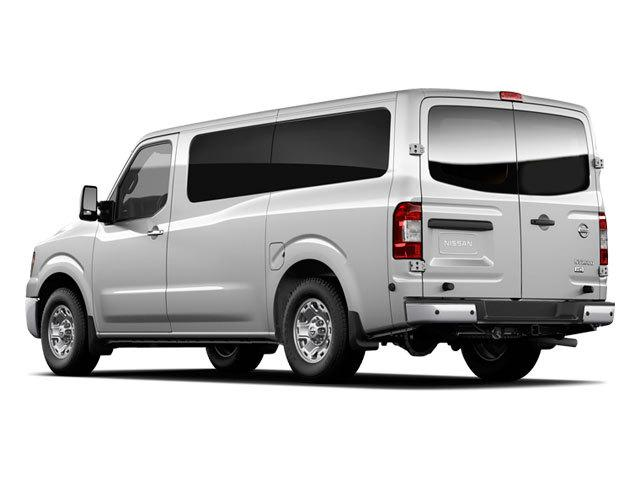car: (13, 81, 605, 370)
